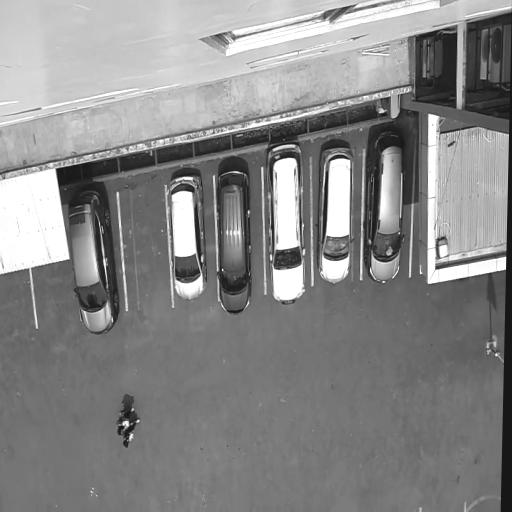Car: (62, 181, 122, 337), (264, 132, 309, 313), (363, 126, 408, 286), (214, 162, 255, 321), (317, 141, 356, 291), (167, 167, 207, 310)
Space Available: (118, 185, 173, 309), (32, 258, 80, 327), (0, 270, 36, 335)
